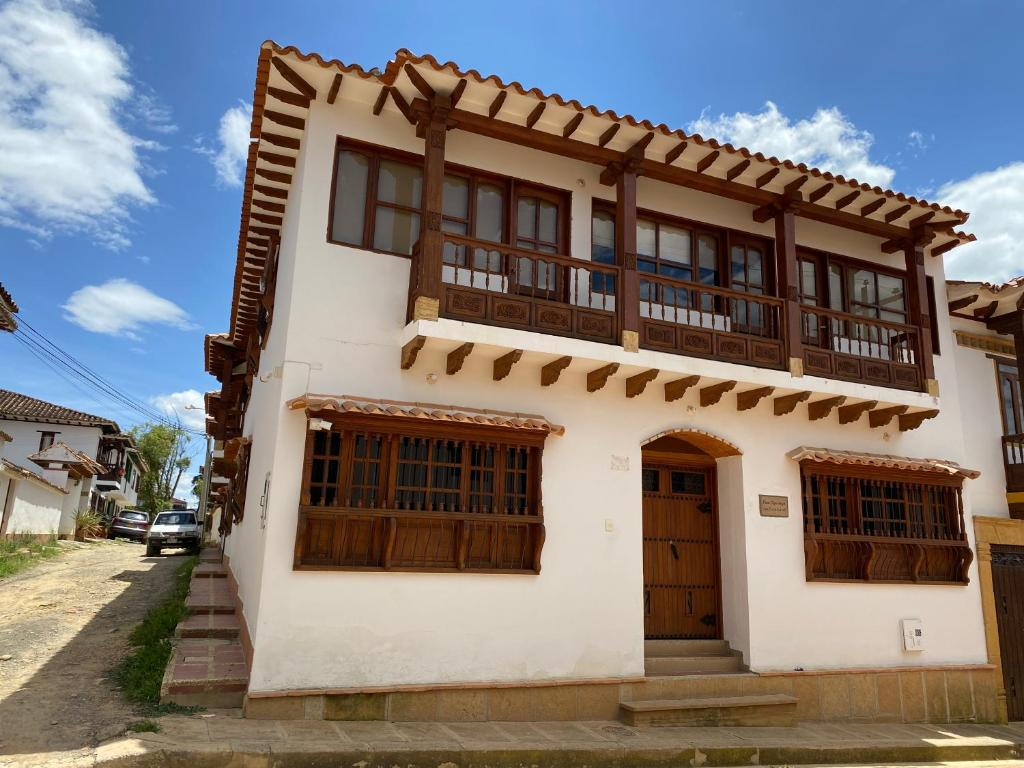House: (199, 32, 986, 743)
